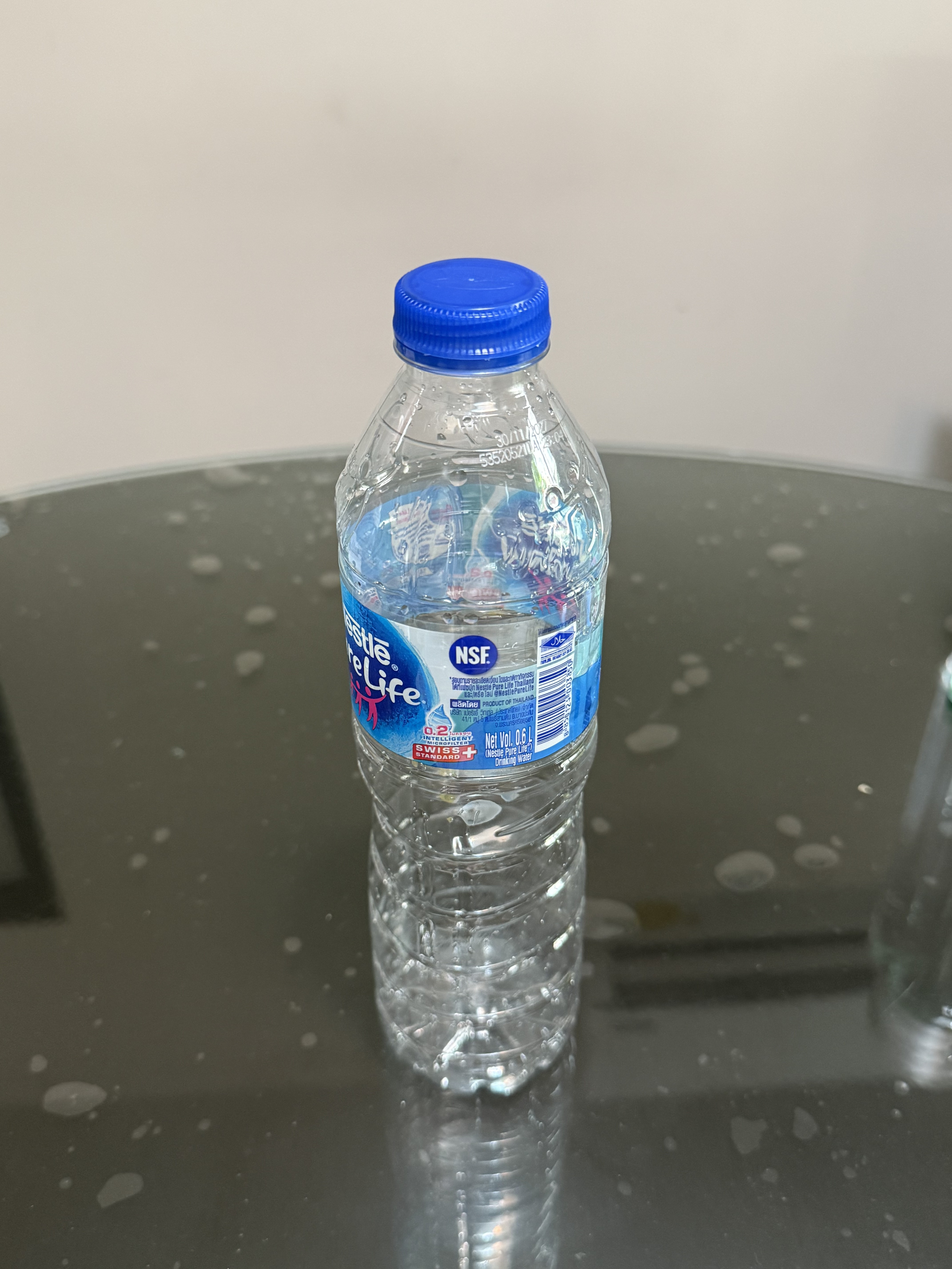closed_cap: (375, 240, 539, 359)
